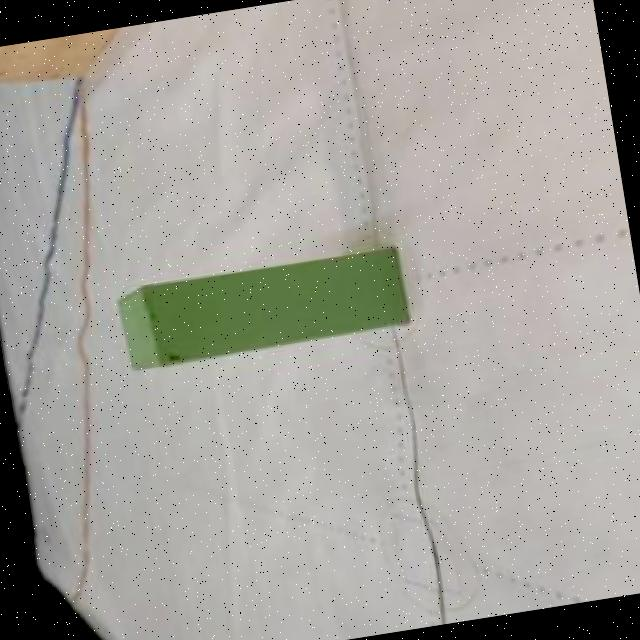greenbox: (115, 244, 408, 376)
